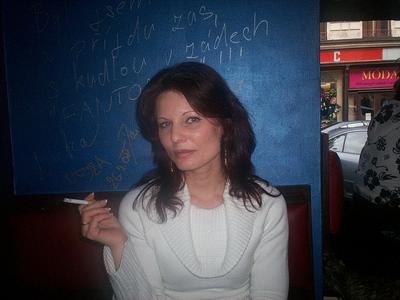person: (79, 62, 291, 300)
